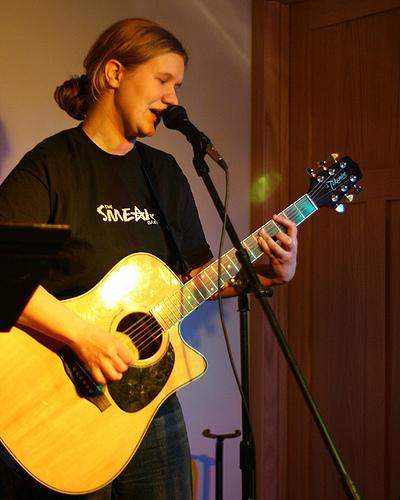person: (2, 17, 299, 498)
